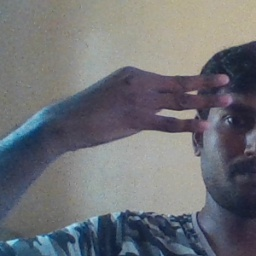K: (68, 64, 236, 146)
